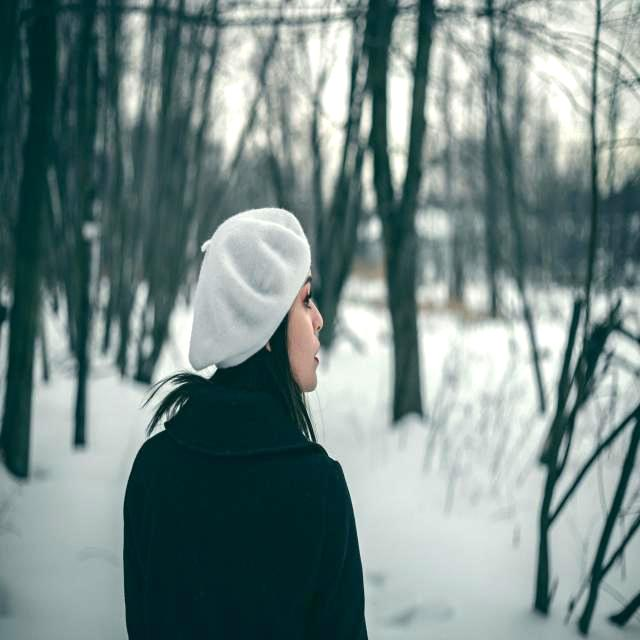no_hard_hat: (189, 208, 311, 371)
person: (124, 208, 368, 640)
